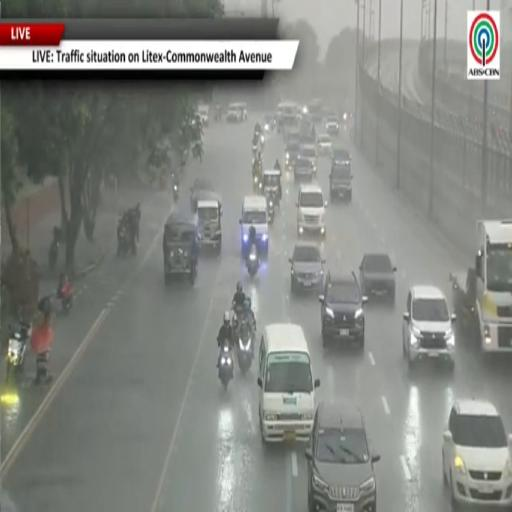car: (305, 402, 380, 511), (442, 399, 511, 510), (403, 285, 456, 371), (319, 272, 368, 349), (163, 211, 199, 285), (289, 242, 325, 294), (360, 253, 396, 303), (297, 184, 327, 236), (197, 194, 222, 252), (330, 148, 353, 201), (190, 179, 215, 212), (298, 141, 317, 173), (293, 156, 315, 182), (285, 140, 299, 170), (332, 148, 351, 167), (227, 104, 244, 122), (318, 134, 332, 155), (326, 115, 339, 135), (197, 105, 209, 126)
motorcycle: (6, 323, 31, 383), (238, 324, 253, 374), (218, 344, 233, 390), (117, 220, 136, 255), (48, 227, 61, 271), (57, 282, 73, 314), (246, 244, 259, 277), (267, 195, 275, 225), (254, 172, 262, 194), (173, 182, 179, 202), (159, 172, 166, 189), (259, 134, 265, 151), (253, 143, 257, 156)
truck: (450, 220, 511, 354)
